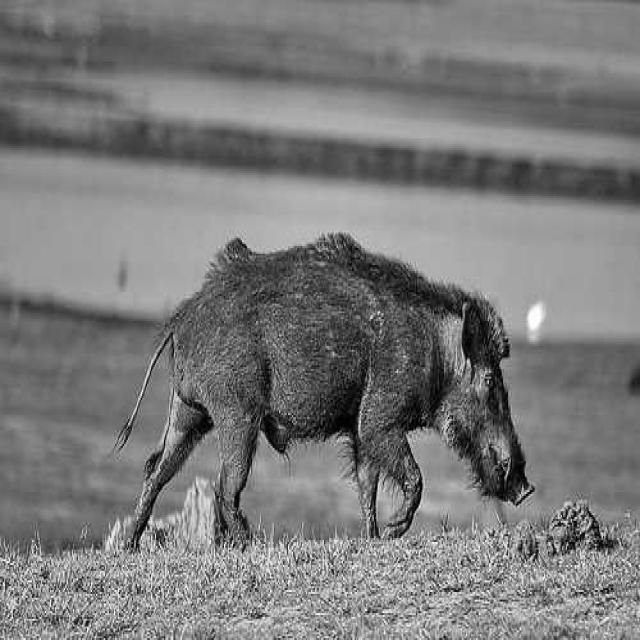boar: (116, 233, 531, 544)
